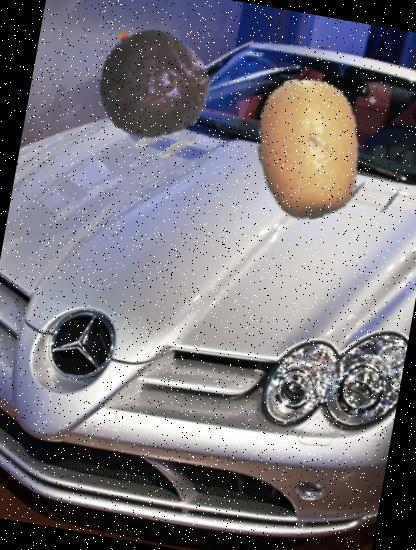Kumquats: (226, 66, 392, 232)
Passion: (82, 16, 219, 152)
